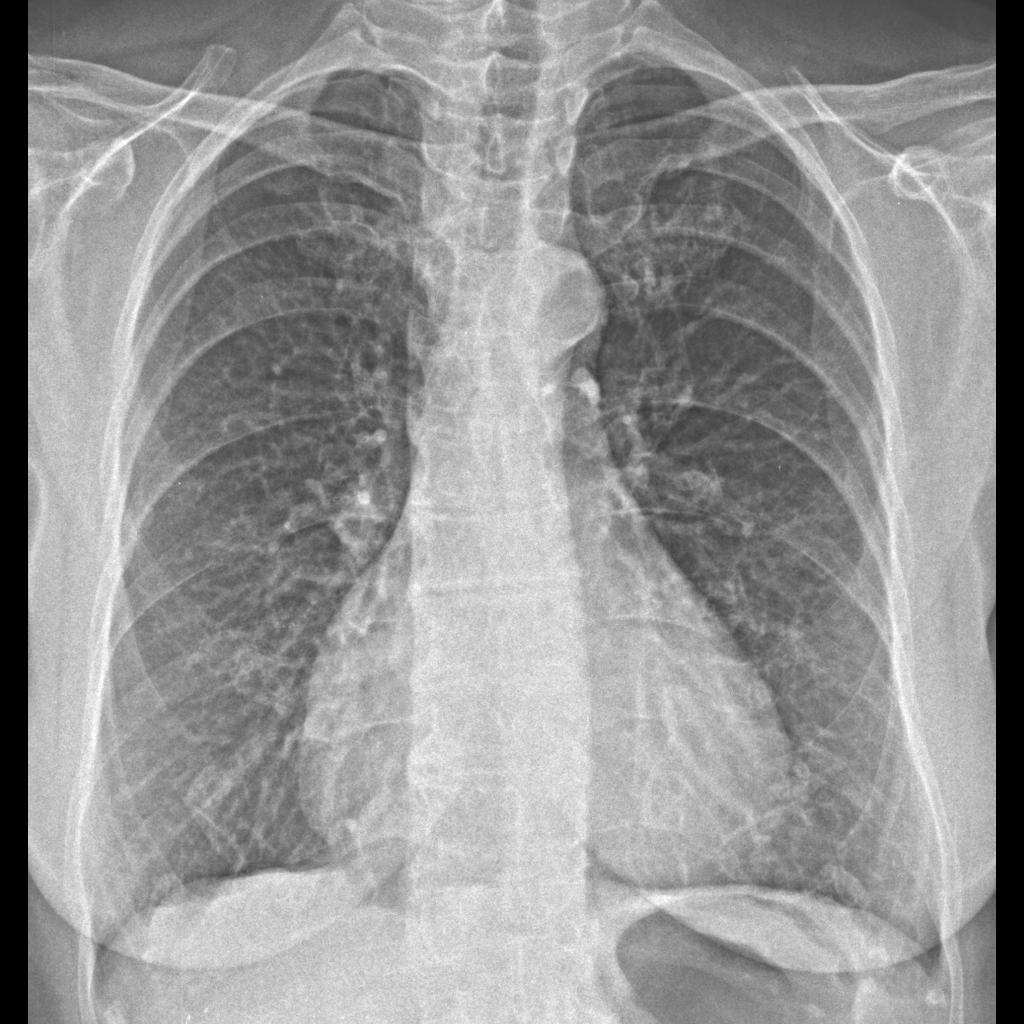Nodule: (177, 742, 236, 821)
